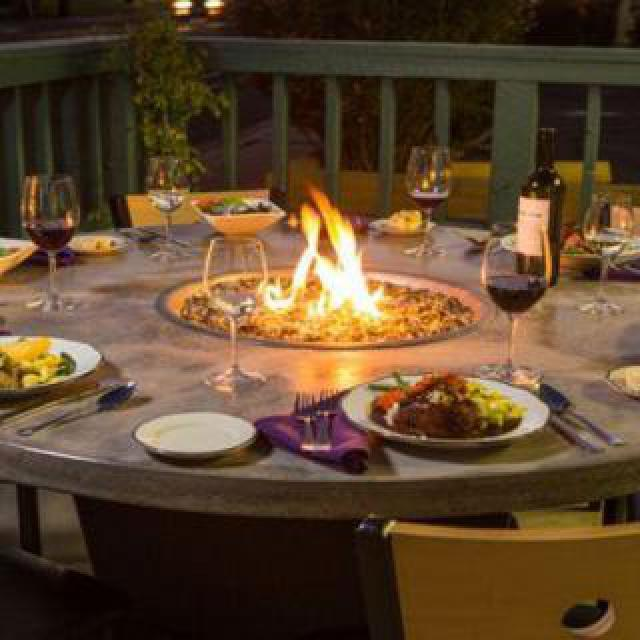zfire: (262, 176, 394, 320)
